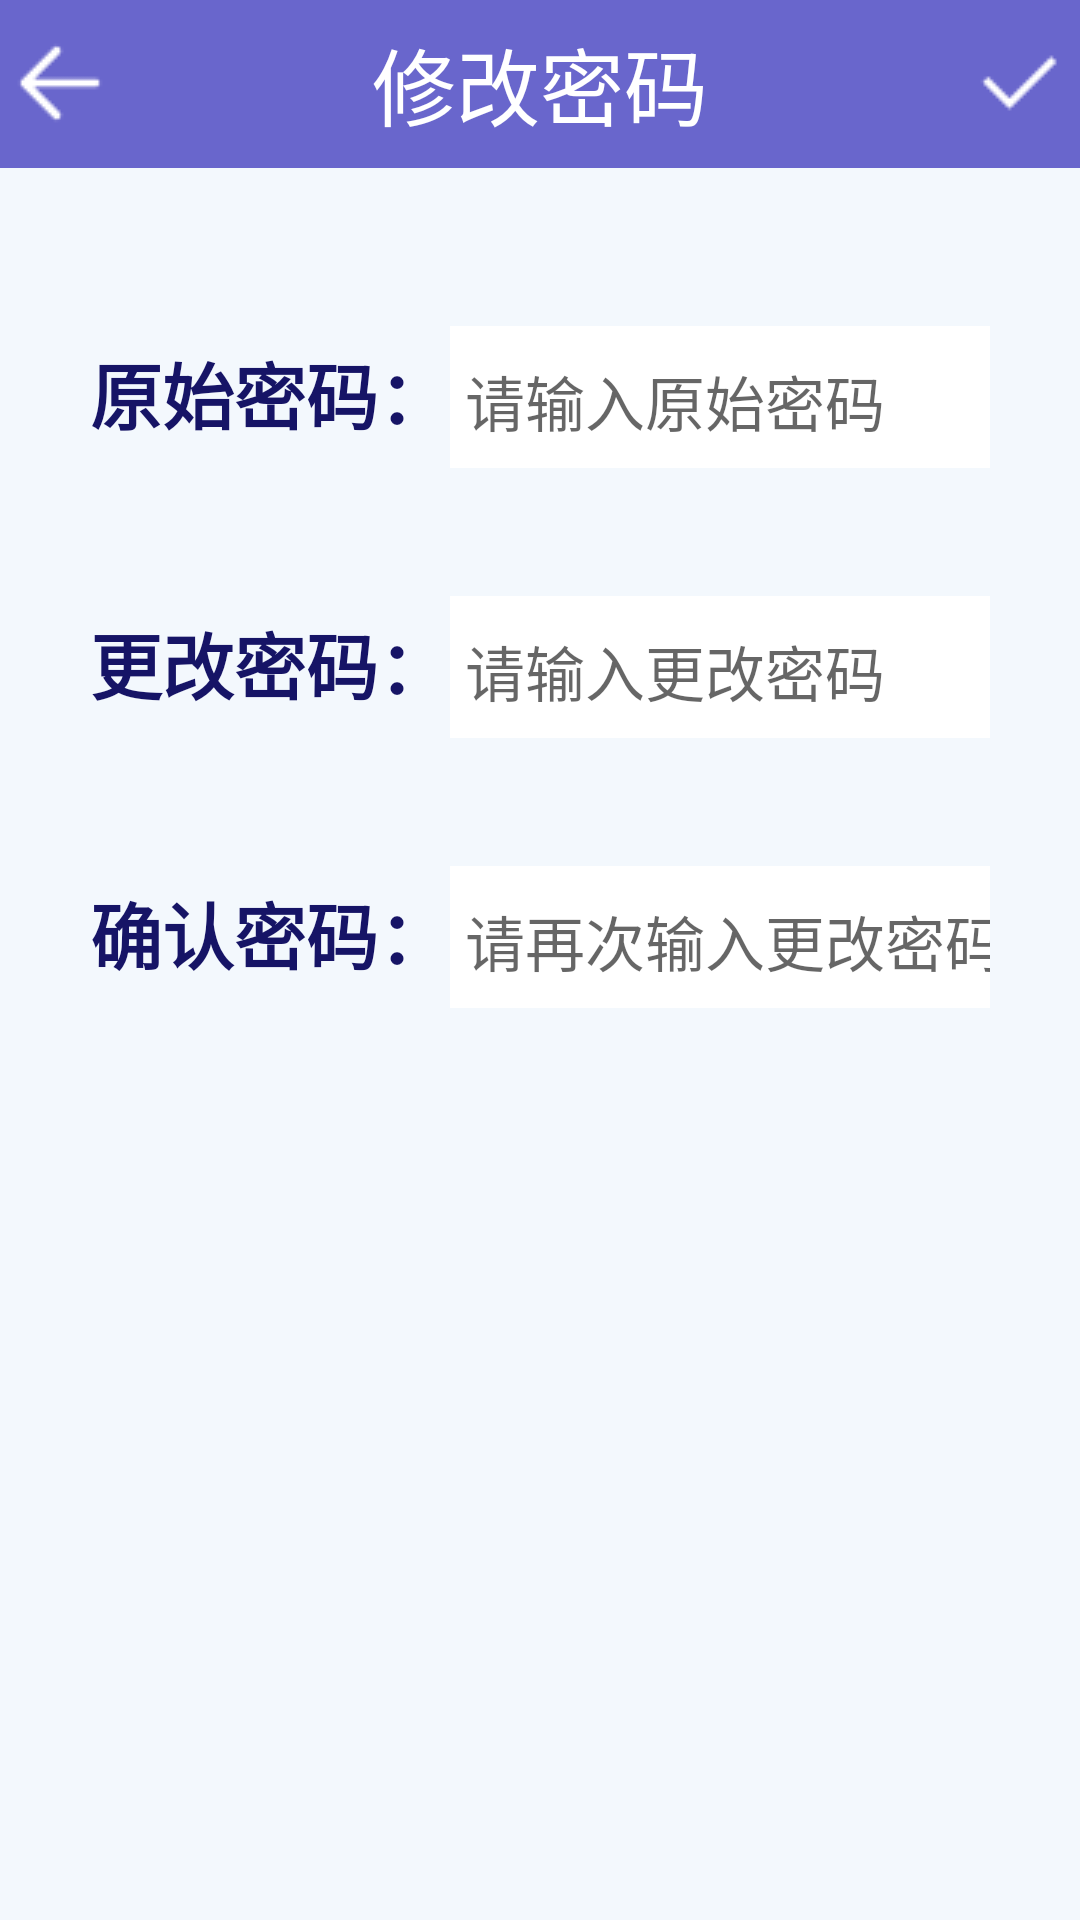

Named icons in this screenshot (1080w x 1920h) and their centers, (x,y):
back: (60,83)
save: (1020,82)
